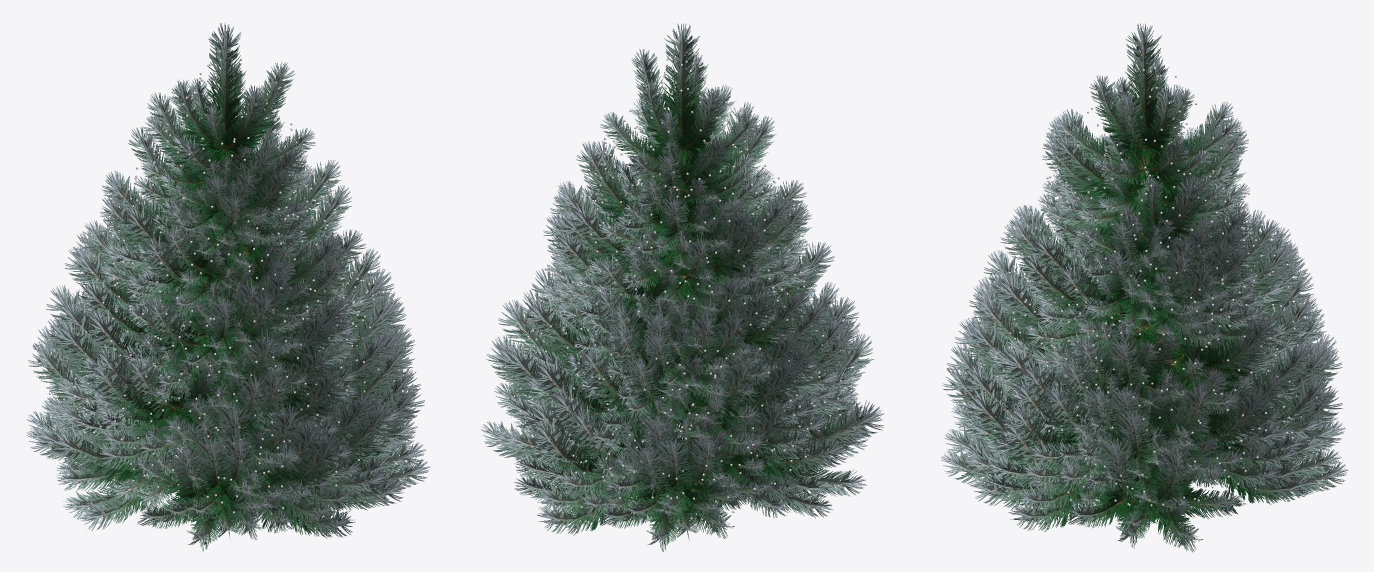
The model's file is tree.glb.
The picture shows the model from 3 angles, left to right: view 1: azimuth 30°, elevation 25°; view 2: azimuth 150°, elevation 25°; view 3: azimuth 270°, elevation 25°; orthographic projection.
Parts seen in each view (by area): view 1: model_1, model_2; view 2: model_1, model_2; view 3: model_1, model_2.
Part boxes in pixels (<box>): model_1: <box>26,23,430,551</box>; model_2: <box>48,55,381,517</box>; model_1: <box>481,23,884,551</box>; model_2: <box>509,53,853,519</box>; model_1: <box>941,23,1348,552</box>; model_2: <box>974,53,1308,510</box>.
Bounding box in the file's own units: 362 × 419 × 350.
1 material, 1 textured.
